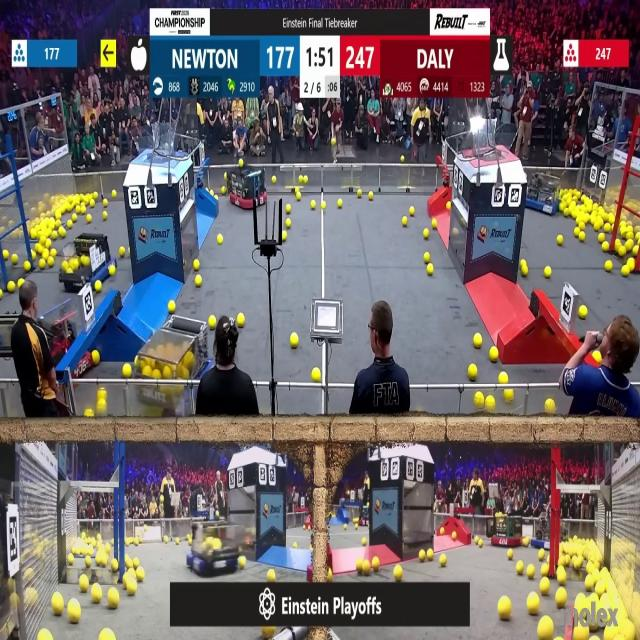ball_airborne: (330, 138, 336, 146)
ball_ground: (537, 618, 551, 640), (498, 597, 511, 620), (68, 601, 80, 623), (528, 594, 539, 615), (54, 595, 65, 615), (108, 590, 119, 609), (556, 590, 566, 608), (92, 586, 102, 604), (544, 398, 554, 414), (79, 577, 88, 593), (473, 392, 482, 408), (95, 402, 104, 418), (574, 628, 587, 639), (128, 582, 138, 596), (101, 630, 114, 640), (468, 363, 476, 379), (540, 580, 548, 596), (486, 394, 495, 408), (557, 570, 566, 584), (268, 568, 277, 582), (38, 630, 50, 640), (503, 389, 512, 402), (290, 334, 298, 348), (394, 566, 402, 580), (122, 363, 130, 377), (527, 565, 535, 579), (93, 351, 101, 365), (362, 559, 370, 573), (586, 576, 594, 590), (593, 352, 602, 364), (313, 367, 321, 380), (578, 306, 586, 319), (136, 568, 144, 581), (491, 348, 498, 362), (604, 262, 612, 274), (370, 558, 378, 570), (209, 316, 216, 329), (473, 335, 480, 348), (238, 314, 245, 327), (499, 373, 507, 384), (619, 246, 627, 257), (169, 302, 176, 314), (240, 556, 247, 568), (419, 551, 426, 563), (356, 558, 363, 570), (540, 564, 547, 576), (628, 257, 635, 269), (517, 562, 524, 574), (41, 249, 50, 258), (556, 236, 564, 246), (86, 557, 94, 567), (192, 261, 199, 272), (7, 282, 14, 293), (111, 560, 118, 571), (108, 267, 115, 278), (123, 558, 130, 569), (427, 265, 433, 277), (544, 267, 550, 279), (96, 281, 102, 293), (442, 555, 448, 567), (522, 266, 528, 278), (86, 411, 94, 420), (194, 276, 201, 286), (118, 247, 125, 257), (602, 242, 609, 252), (47, 256, 54, 266), (39, 261, 46, 271), (523, 536, 530, 546), (623, 268, 630, 278), (97, 556, 104, 566), (594, 221, 601, 230), (424, 252, 430, 262), (26, 263, 32, 273), (427, 550, 433, 560), (401, 216, 407, 226), (578, 232, 584, 242), (507, 550, 513, 560), (598, 234, 604, 244), (633, 246, 639, 256), (3, 250, 9, 260), (60, 229, 66, 239), (68, 555, 74, 565), (538, 551, 544, 561), (134, 558, 140, 568), (604, 222, 610, 232), (286, 218, 292, 228), (578, 220, 584, 230), (574, 216, 580, 226), (49, 249, 56, 257), (627, 240, 634, 248), (11, 254, 17, 263), (564, 208, 570, 217), (424, 230, 429, 240), (217, 236, 222, 246), (327, 570, 332, 580), (362, 537, 368, 545), (100, 212, 106, 220), (452, 532, 458, 540), (67, 220, 73, 228), (286, 205, 292, 213), (356, 189, 362, 197), (45, 240, 51, 248), (32, 251, 38, 259), (521, 259, 527, 267), (51, 232, 57, 240), (572, 230, 578, 238), (282, 233, 287, 242), (410, 207, 415, 216), (617, 240, 623, 247), (440, 528, 446, 535), (479, 539, 485, 546), (93, 191, 99, 198), (295, 191, 300, 199), (311, 202, 316, 210), (447, 203, 452, 211), (91, 200, 96, 208), (220, 186, 225, 194), (80, 206, 85, 214), (0, 289, 4, 299), (304, 176, 309, 184), (635, 232, 640, 240), (339, 200, 343, 209), (18, 279, 22, 288), (560, 203, 564, 212), (88, 215, 93, 222), (367, 191, 372, 198), (36, 244, 41, 251), (112, 190, 116, 198), (321, 202, 325, 210), (432, 220, 436, 228), (104, 200, 108, 208), (272, 176, 276, 184), (298, 176, 302, 184), (165, 536, 170, 542), (72, 215, 76, 222), (473, 536, 477, 543), (176, 538, 180, 544), (292, 542, 296, 548), (344, 524, 348, 530), (354, 524, 358, 530), (144, 526, 148, 532)
goal: (464, 120, 520, 160), (129, 130, 189, 160)
robot_blue: (58, 233, 114, 295), (186, 514, 238, 575), (525, 168, 561, 212), (530, 518, 550, 549)
robot_red: (132, 318, 211, 412), (227, 164, 268, 209), (488, 514, 520, 547), (358, 506, 371, 528)
